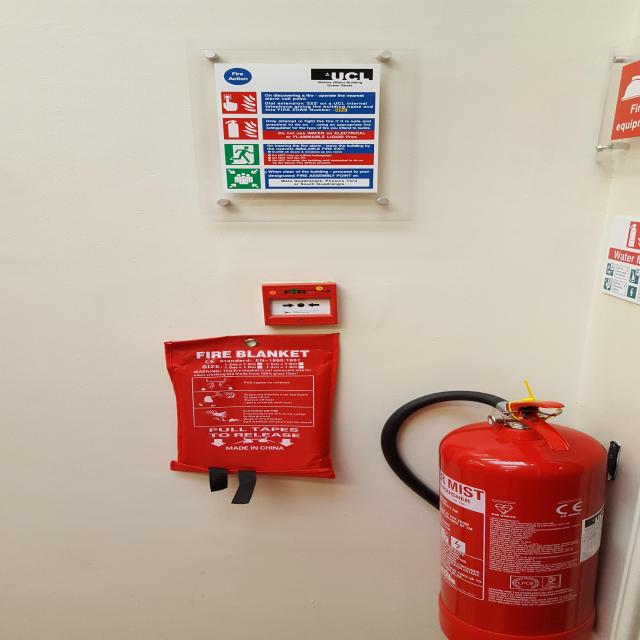fire_extinguisher: (373, 386, 617, 640)
